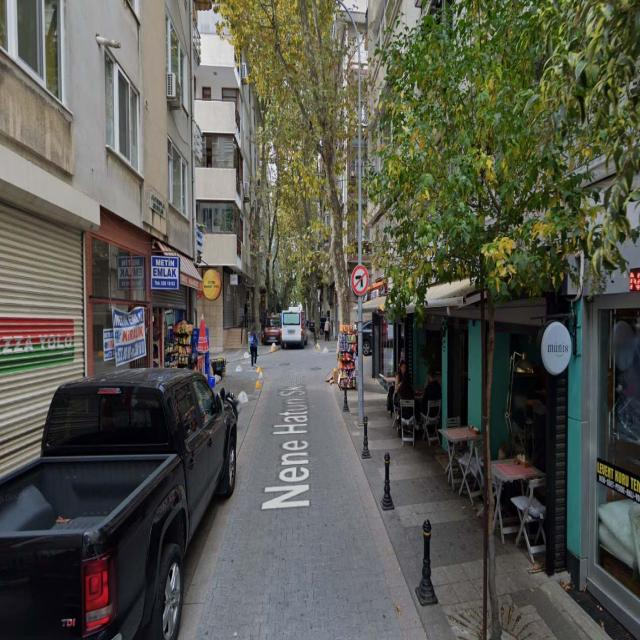soladonulmez: (352, 264, 369, 295)
